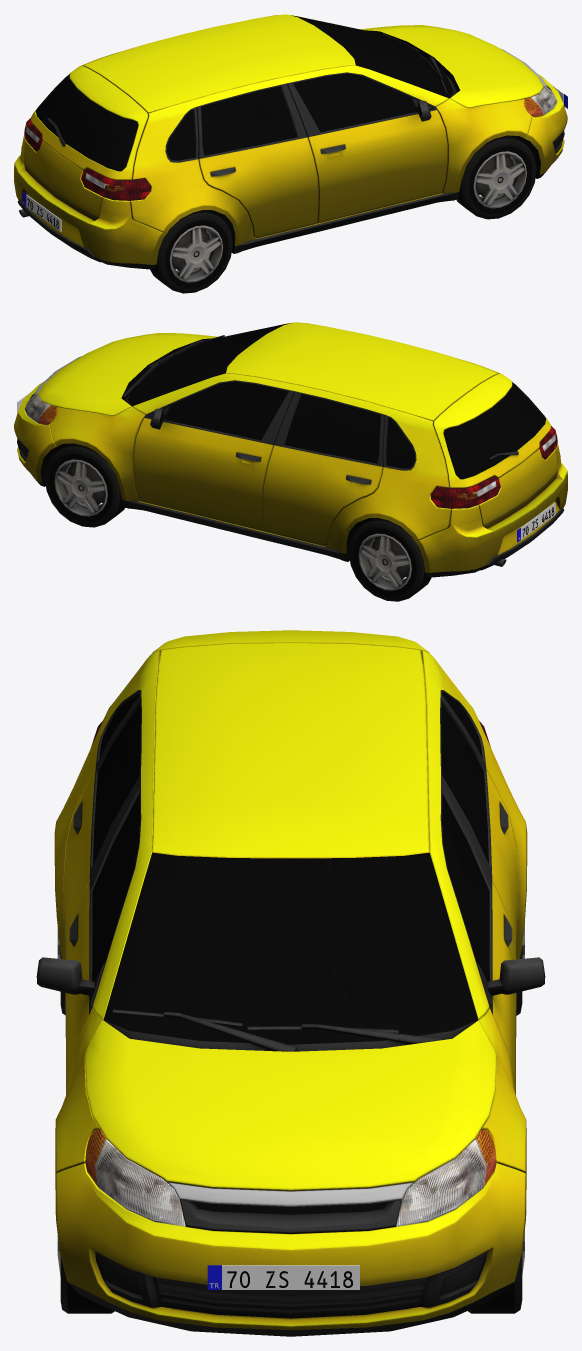
The model's file is CarPlated3981.dae.
3 renders of one model, top to bottom at view 1: azimuth 30°, elevation 25°; view 2: azimuth 150°, elevation 25°; view 3: azimuth 270°, elevation 25°, orthographic. The views are drawn at different scales.
Visible parts, largest first — view 1: CarPlated3981; view 2: CarPlated3981; view 3: CarPlated3981.
Part boxes in pixels (bbox=[...]): CarPlated3981: bbox=[14, 14, 567, 293]; CarPlated3981: bbox=[14, 322, 567, 601]; CarPlated3981: bbox=[36, 630, 545, 1336].
Bounding box in the file's own units: 3.99 × 1.74 × 1.35.
